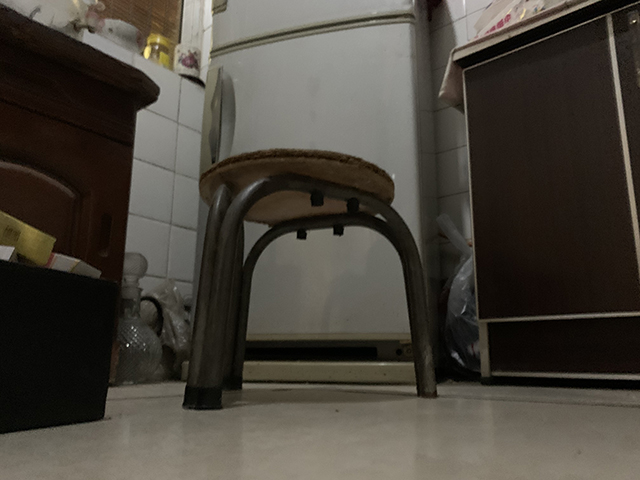cabinet: (450, 1, 640, 390)
stool: (181, 147, 441, 412)
table: (1, 1, 162, 436)
